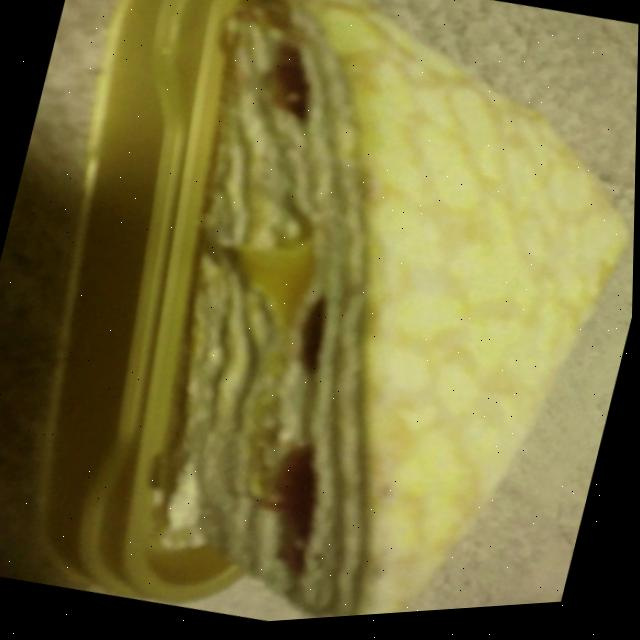蔬菜料理: (26, 103, 638, 638)
